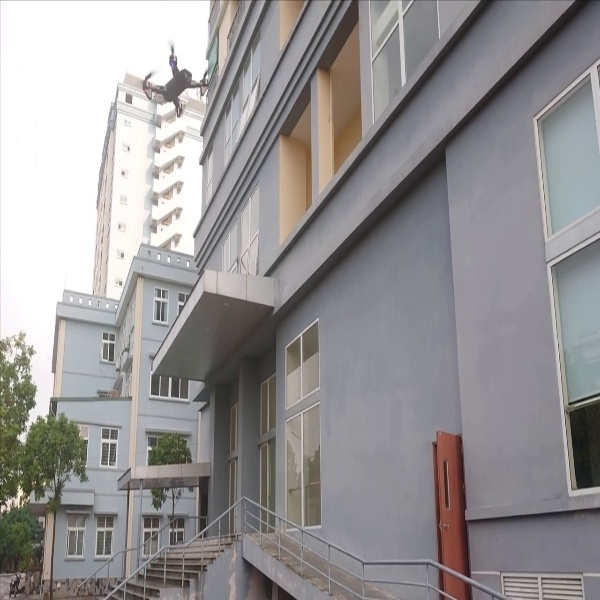drone: (135, 32, 217, 122)
